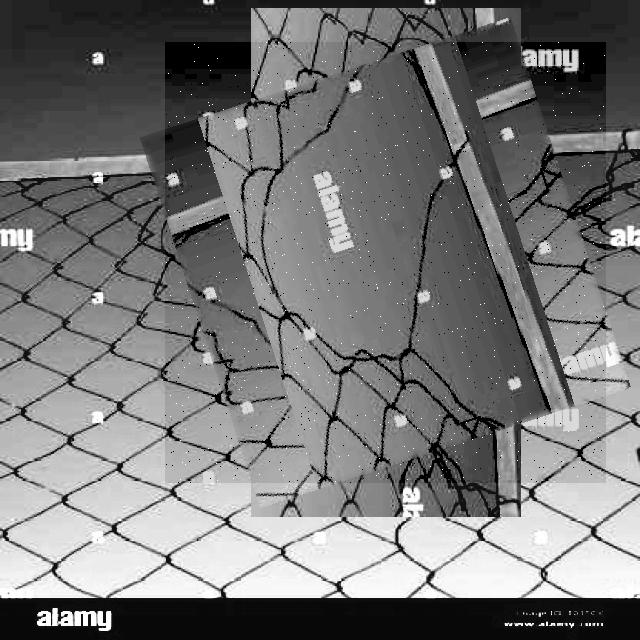anomaly-fence: (165, 42, 606, 483)
